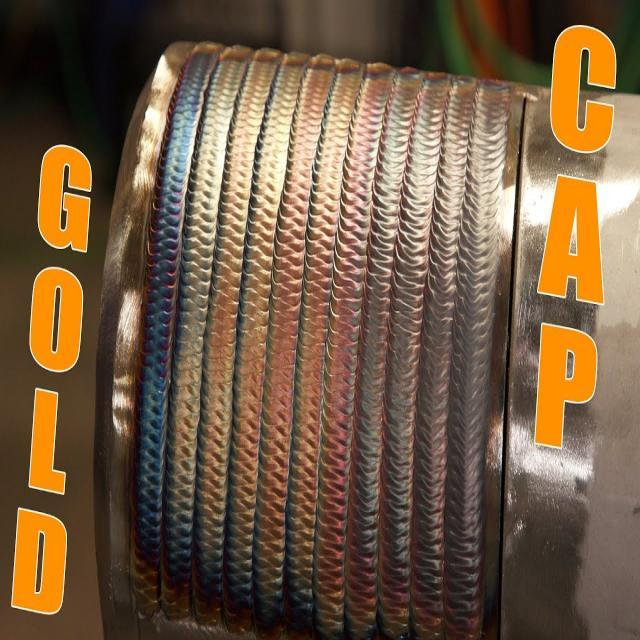Good Weld: (182, 46, 486, 618)
